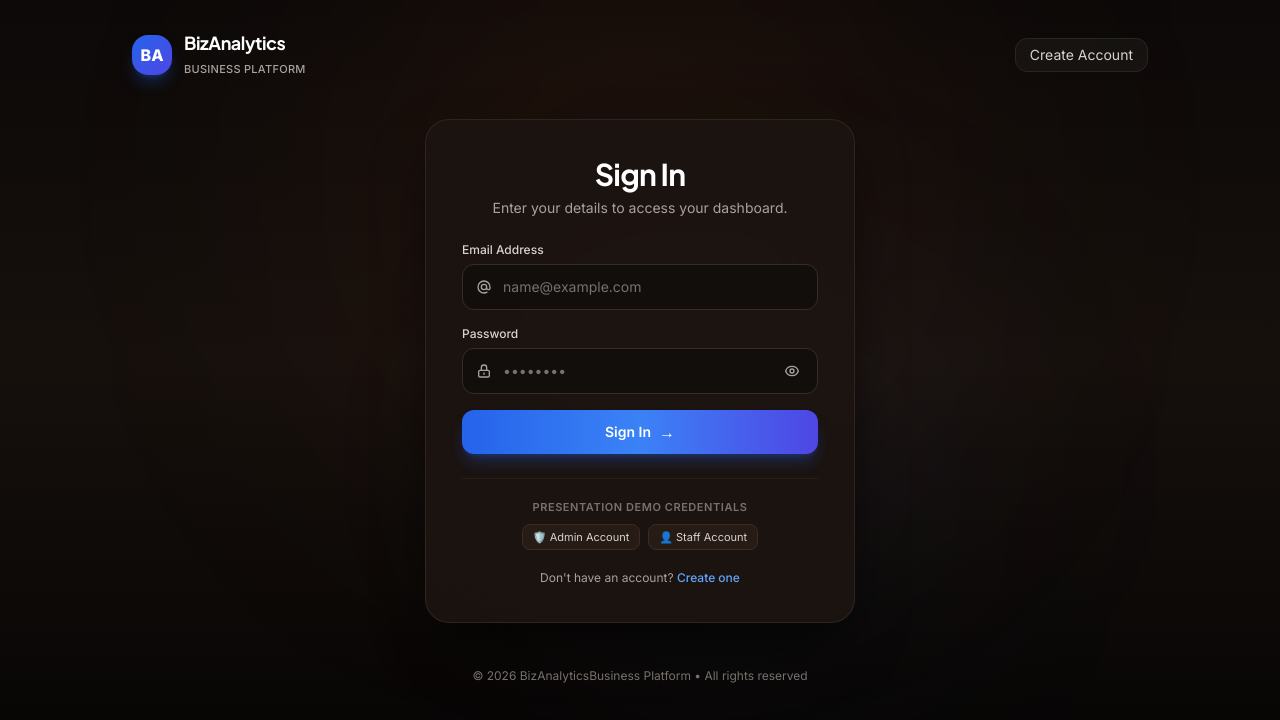
Login Page › shows validation error when submitting empty form
Click the button "Sign In →". click: x=640, y=432
box: [462,410,818,454]
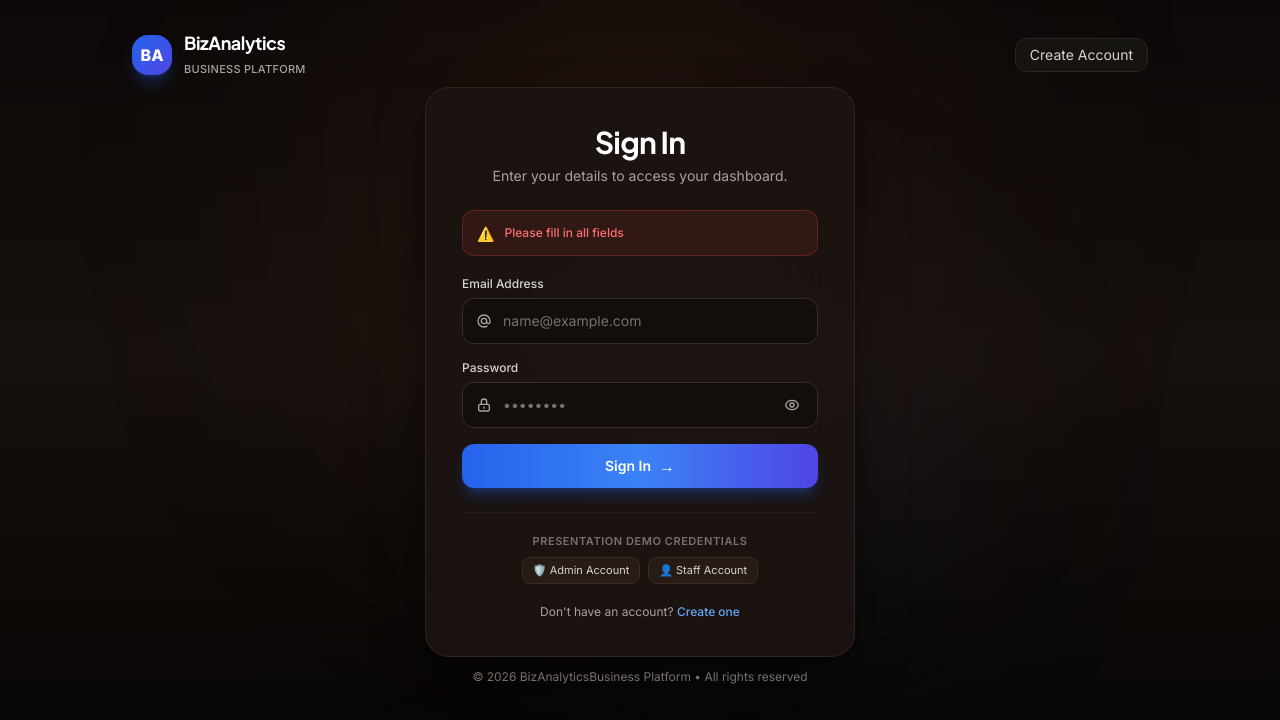
expect the text "Please fill in all fields" is shown: met, box [504,224,624,240]
